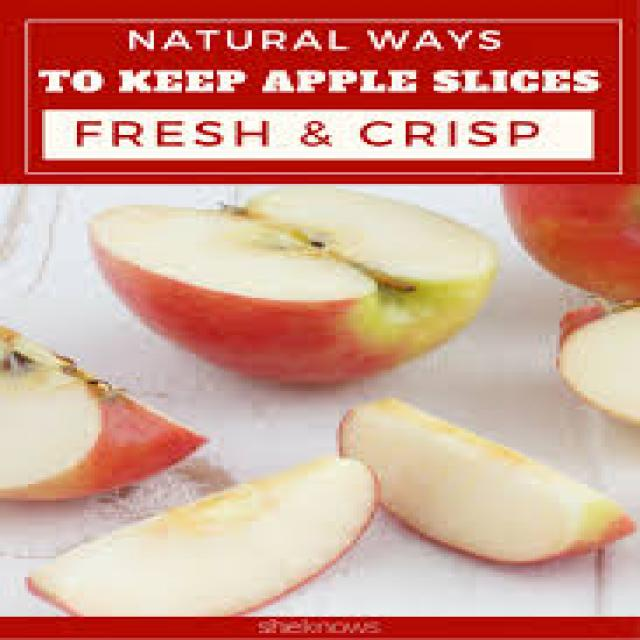Apple: (84, 188, 498, 390), (16, 461, 372, 610), (341, 404, 628, 568), (0, 323, 206, 498)
